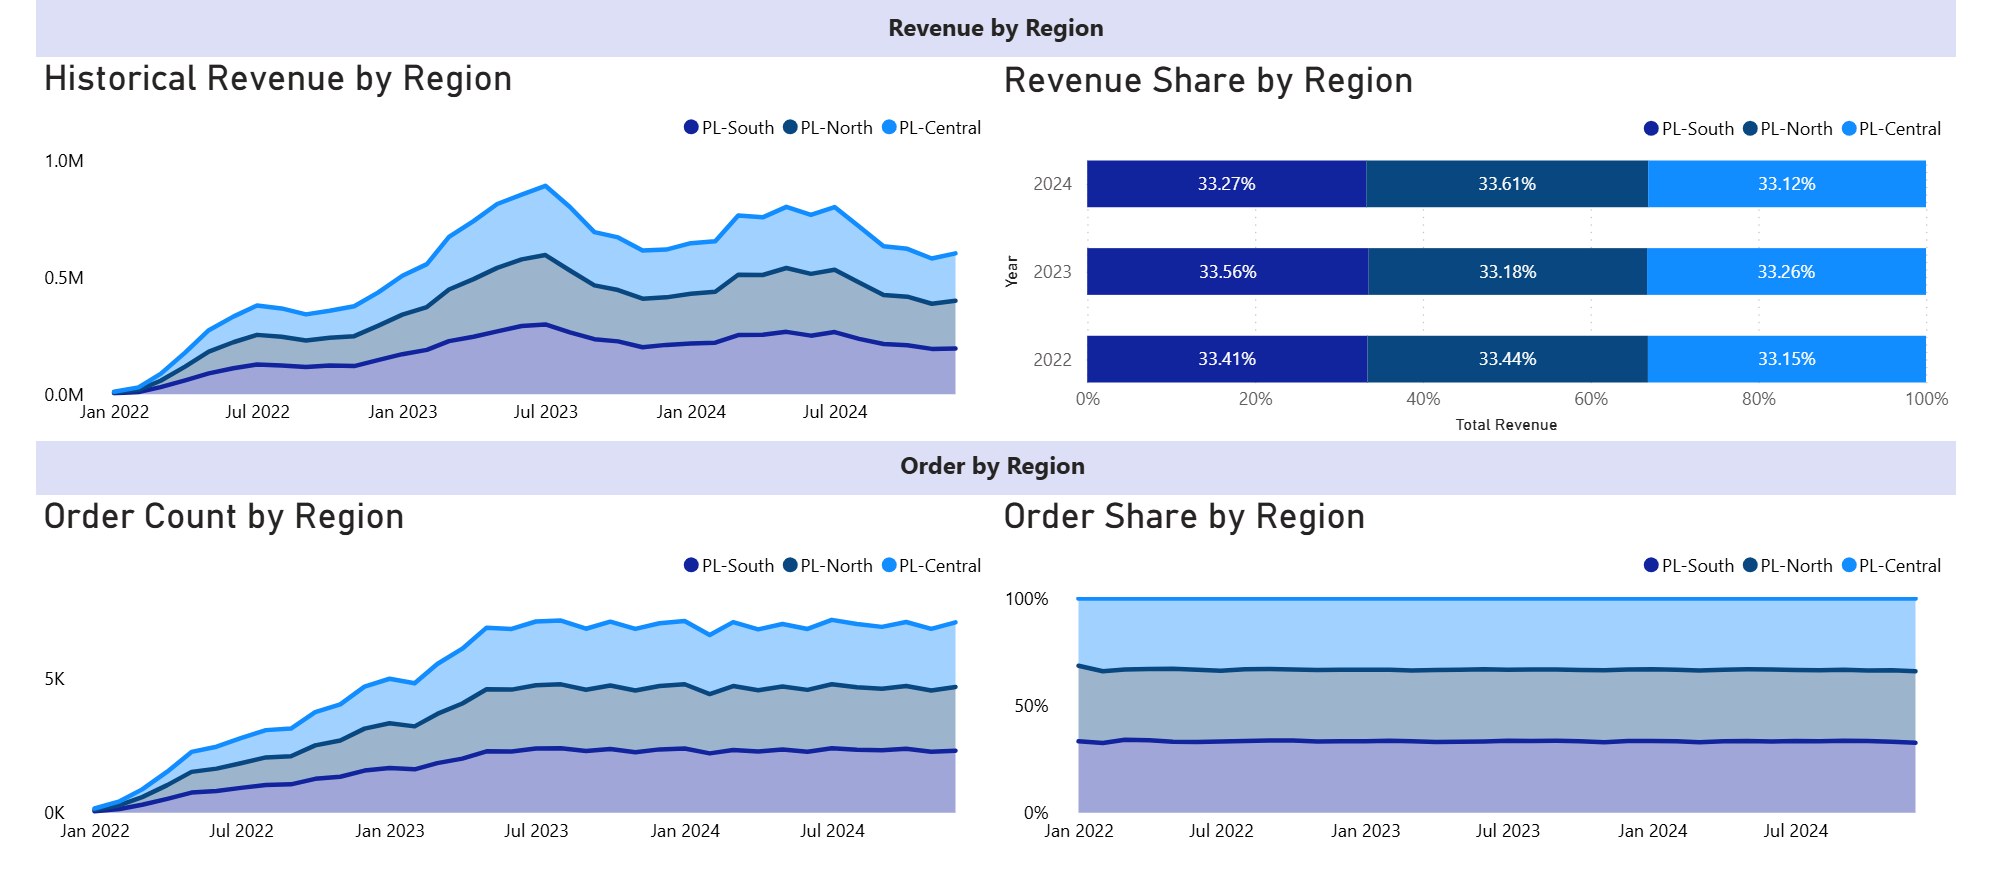

What the dashboard file says about the page in this screenshot:
{"tool":"powerbi","page":{"name":"Regional Insights","canvas":[1280,720],"ordinal":5},"visuals":[{"type":"shape","box":[0,0,1280,150],"z":0},{"type":"slicer","fields":{"Values":["cleaned_fmcg.region"]},"box":[325.7,35.7,167.1,80],"z":1000},{"type":"slicer","fields":{"Values":["cleaned_fmcg.promotion_flag"]},"box":[492.9,35.7,167.1,80],"z":2000},{"type":"slicer","fields":{"Values":["cleaned_fmcg.channel"]},"box":[651.4,35.7,167.1,80],"z":3000},{"type":"slicer","fields":{"Values":["cleaned_fmcg.category"]},"box":[818.6,35.7,167.1,80],"z":4000},{"type":"slicer","fields":{"Values":["cleaned_fmcg.sku"]},"box":[985.7,35.7,167.1,80],"z":5000},{"type":"image","box":[18.6,0,294.3,150],"z":6000},{"type":"slicer","fields":{"Values":["cleaned_fmcg.date.Variation.Date Hierarchy.Year"]},"box":[1152.9,35.7,127.1,80],"z":7000},{"type":"stackedAreaChart","title":"Historical Revenue by Region","fields":{"Category":["cleaned_fmcg.date.Variation.Date Hierarchy.Year","cleaned_fmcg.date.Variation.Date Hierarchy.Month"],"Y":["cleaned_fmcg.Total Revenue"],"Series":["cleaned_fmcg.region"]},"box":[0,186.2,640,255],"z":8000},{"type":"textbox","box":[0,150,1280,36],"z":9000},{"type":"stackedAreaChart","title":"Order Count by Region","fields":{"Category":["cleaned_fmcg.date.Variation.Date Hierarchy.Year","cleaned_fmcg.date.Variation.Date Hierarchy.Month"],"Series":["cleaned_fmcg.region"],"Y":["cleaned_fmcg.Order Count"]},"box":[0,478.3,640,241.7],"z":10000},{"type":"hundredPercentStackedBarChart","title":"Revenue Share by Region","fields":{"Y":["cleaned_fmcg.Total Revenue"],"Series":["cleaned_fmcg.region"],"Category":["cleaned_fmcg.date.Variation.Date Hierarchy.Year"]},"box":[640,186.7,640,255],"z":11000},{"type":"hundredPercentStackedAreaChart","title":"Order Share by Region","fields":{"Category":["cleaned_fmcg.date.Variation.Date Hierarchy.Year","cleaned_fmcg.date.Variation.Date Hierarchy.Month"],"Series":["cleaned_fmcg.region"],"Y":["cleaned_fmcg.Order Count"]},"box":[640,478.3,640,241.7],"z":12000},{"type":"textbox","box":[0,441.7,1280,36.7],"z":13000}]}

Visuals, with their boxes on the page's 1280x720 design canvas (x1, y1, x2, y2). These are canvas units, not pixel positions in the 1992x894 screenshot, which may show the page scaled, cropped or inside an application window:
shape: x1=0, y1=0, x2=1280, y2=150
slicer - cleaned_fmcg.region: x1=326, y1=36, x2=493, y2=116
slicer - cleaned_fmcg.promotion_flag: x1=493, y1=36, x2=660, y2=116
slicer - cleaned_fmcg.channel: x1=651, y1=36, x2=818, y2=116
slicer - cleaned_fmcg.category: x1=819, y1=36, x2=986, y2=116
slicer - cleaned_fmcg.sku: x1=986, y1=36, x2=1153, y2=116
image: x1=19, y1=0, x2=313, y2=150
slicer - cleaned_fmcg.date.Variation.Date Hierarchy.Year: x1=1153, y1=36, x2=1280, y2=116
"Historical Revenue by Region" stackedAreaChart: x1=0, y1=186, x2=640, y2=441
textbox: x1=0, y1=150, x2=1280, y2=186
"Order Count by Region" stackedAreaChart: x1=0, y1=478, x2=640, y2=720
"Revenue Share by Region" hundredPercentStackedBarChart: x1=640, y1=187, x2=1280, y2=442
"Order Share by Region" hundredPercentStackedAreaChart: x1=640, y1=478, x2=1280, y2=720
textbox: x1=0, y1=442, x2=1280, y2=478
